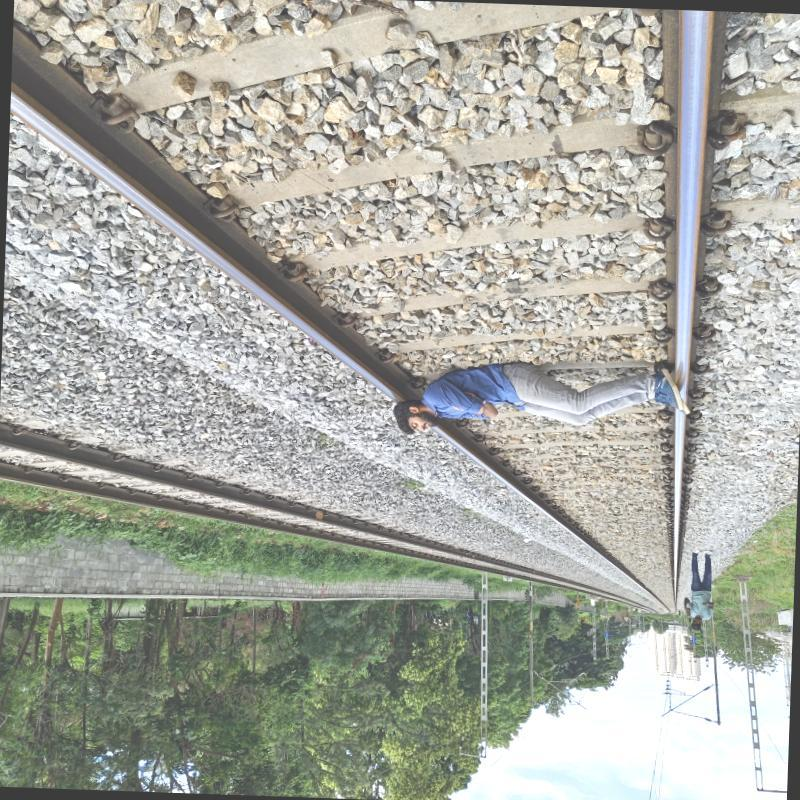sleeping: (386, 347, 706, 452)
